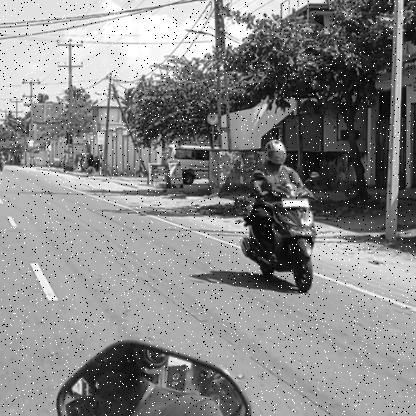motorcycle: (237, 180, 322, 296)
